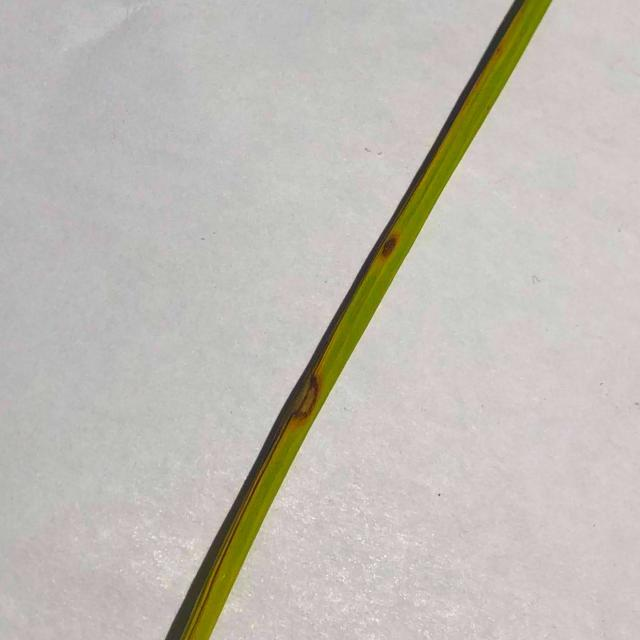Blast: (296, 374, 318, 427), (379, 230, 399, 264)
